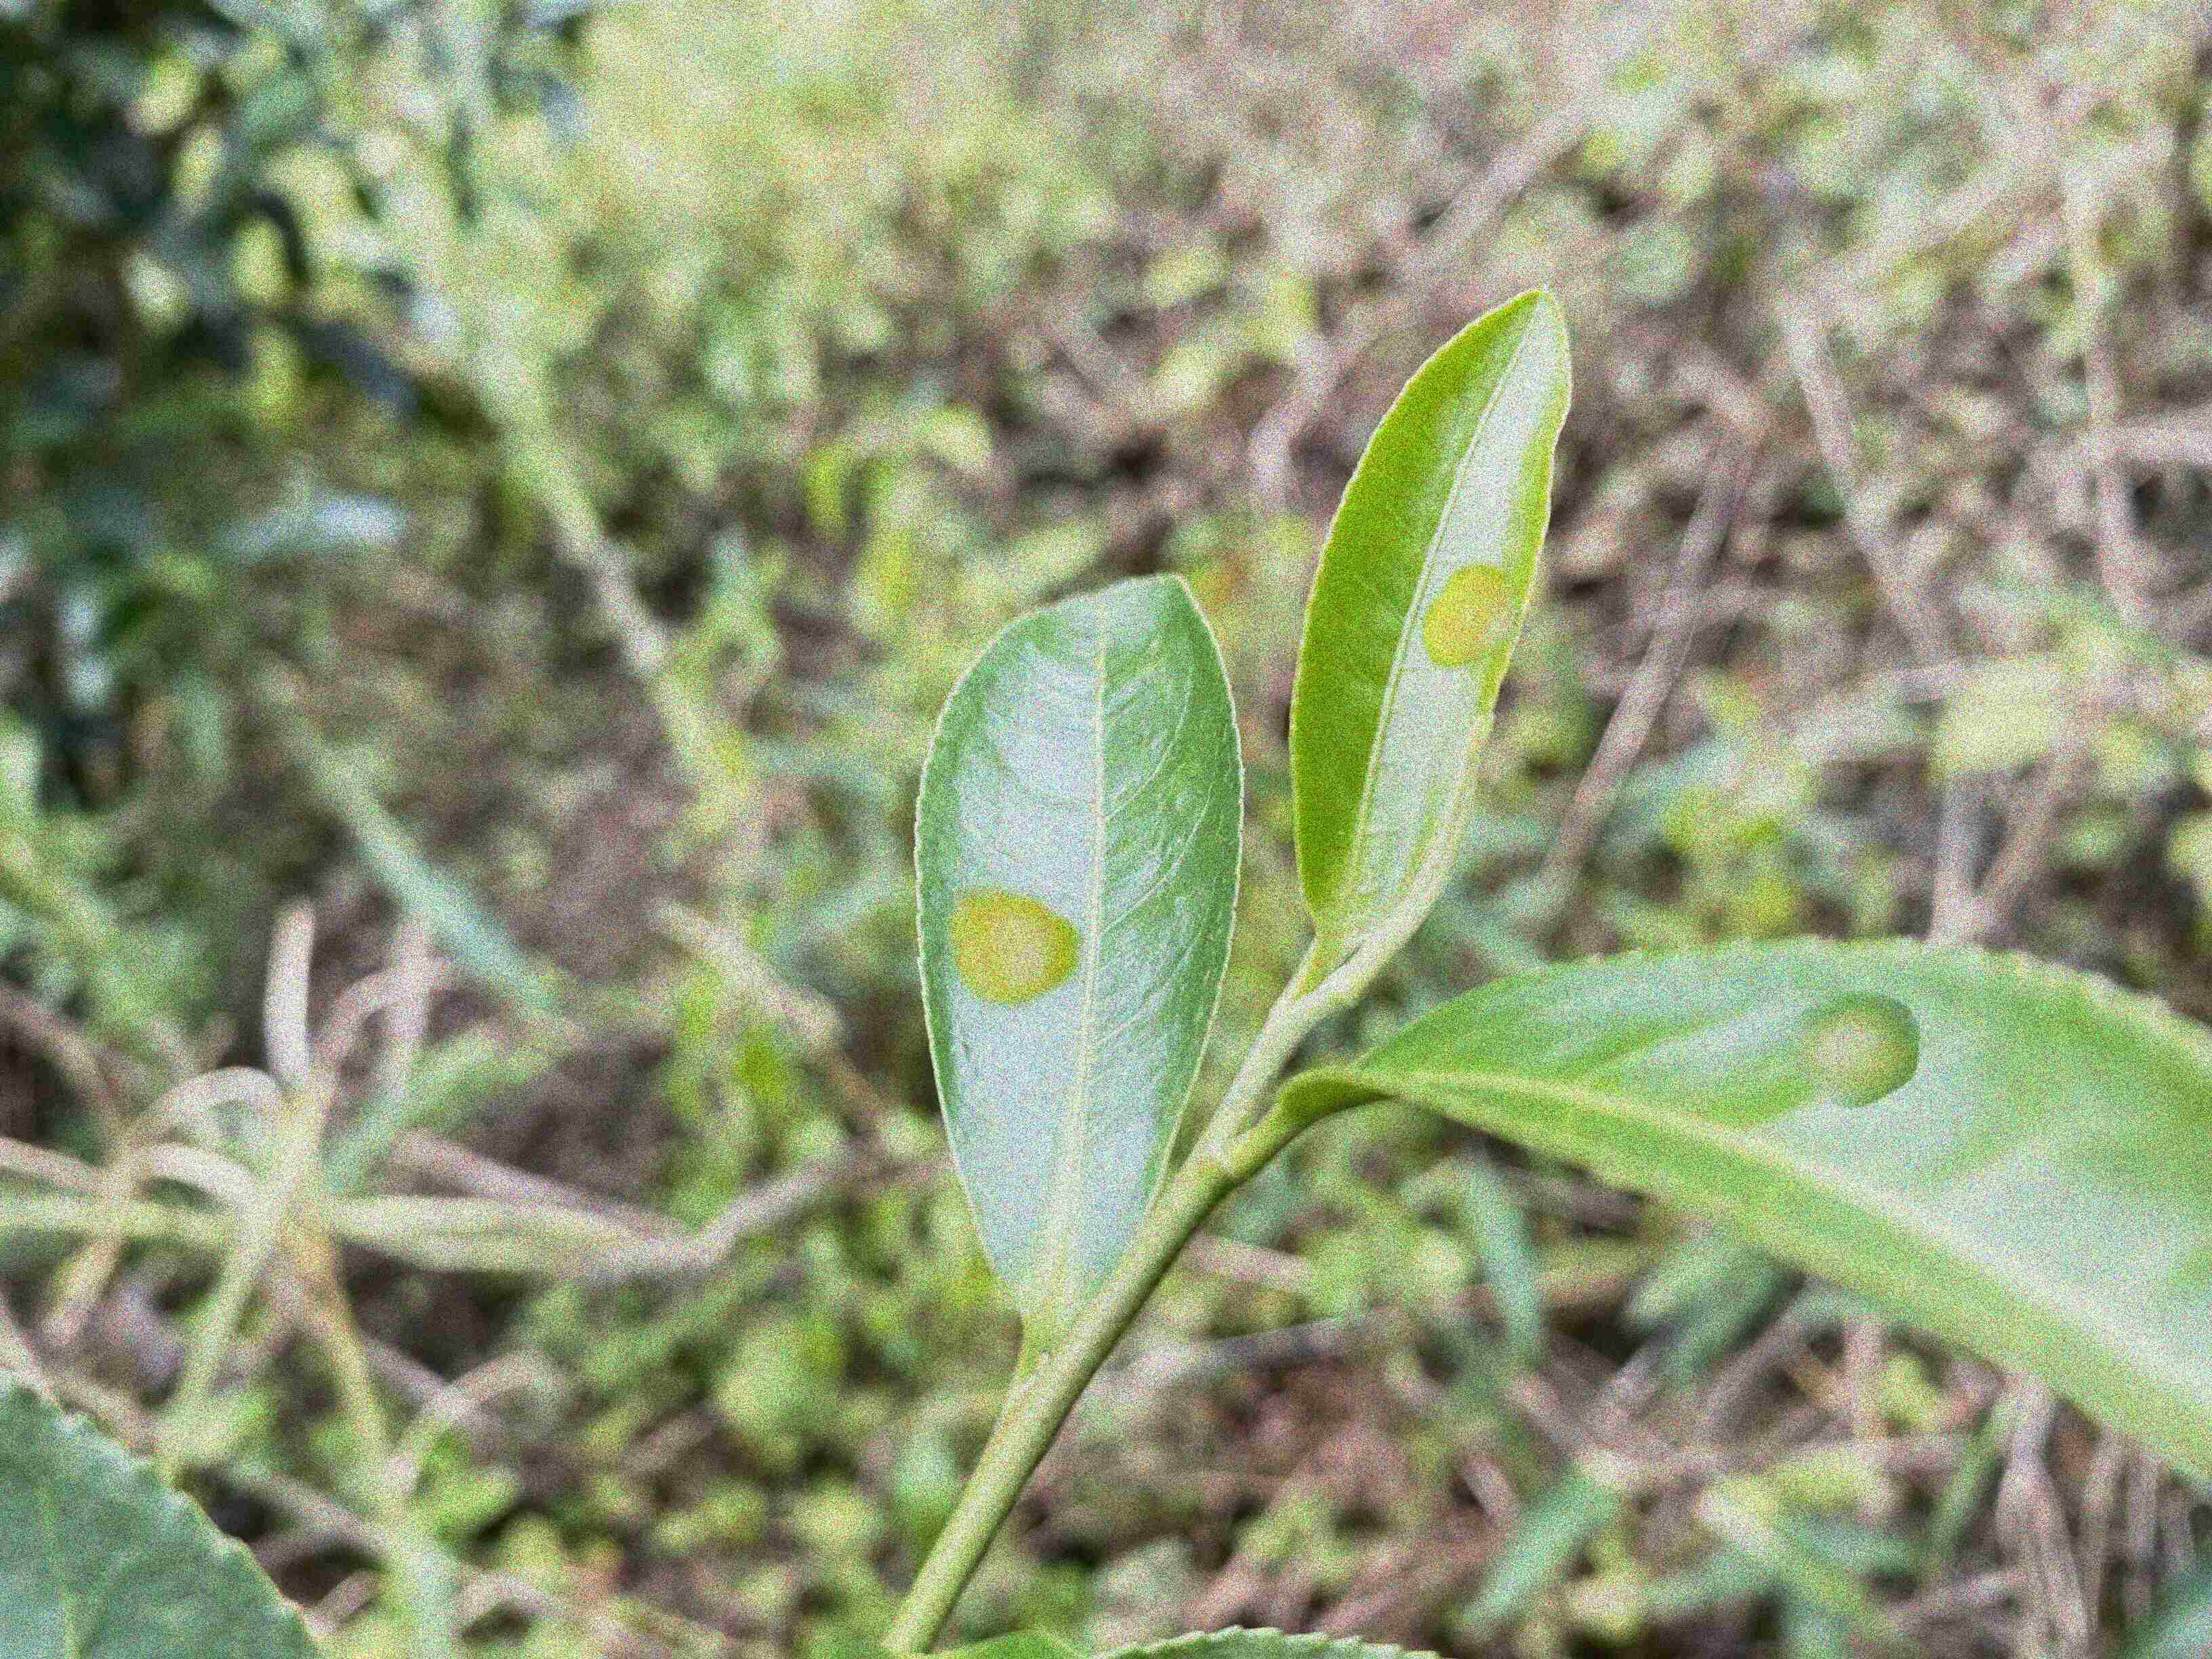chabing_low: (1271, 931, 2209, 1481), (913, 573, 1247, 1324), (1284, 286, 1575, 950)
